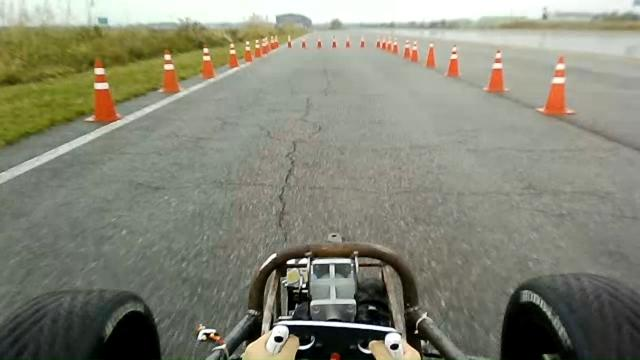red cone: (535, 55, 576, 116), (84, 57, 122, 122), (483, 48, 509, 92), (157, 49, 182, 93), (200, 46, 216, 80), (445, 44, 461, 78), (228, 42, 239, 68), (426, 43, 436, 68), (410, 40, 420, 62), (244, 40, 253, 63), (402, 39, 411, 59), (254, 39, 262, 58), (262, 37, 270, 54), (392, 39, 399, 54)
